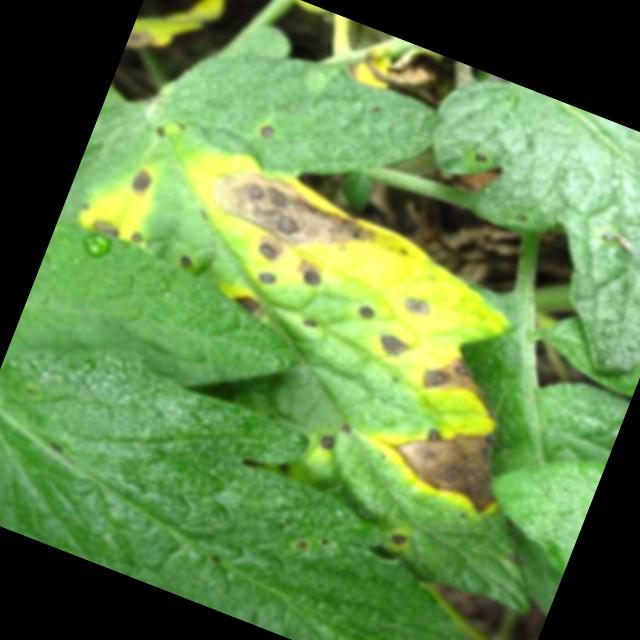Early_blight: (200, 148, 392, 274), (359, 392, 522, 522), (415, 343, 520, 425), (251, 231, 294, 269), (227, 284, 271, 318), (292, 253, 331, 291), (126, 163, 162, 202), (375, 329, 415, 364), (400, 289, 438, 322), (88, 212, 124, 242), (386, 520, 416, 552), (253, 262, 283, 290), (316, 429, 342, 455), (255, 120, 280, 141), (357, 300, 380, 321), (177, 251, 199, 272), (300, 314, 324, 332)
